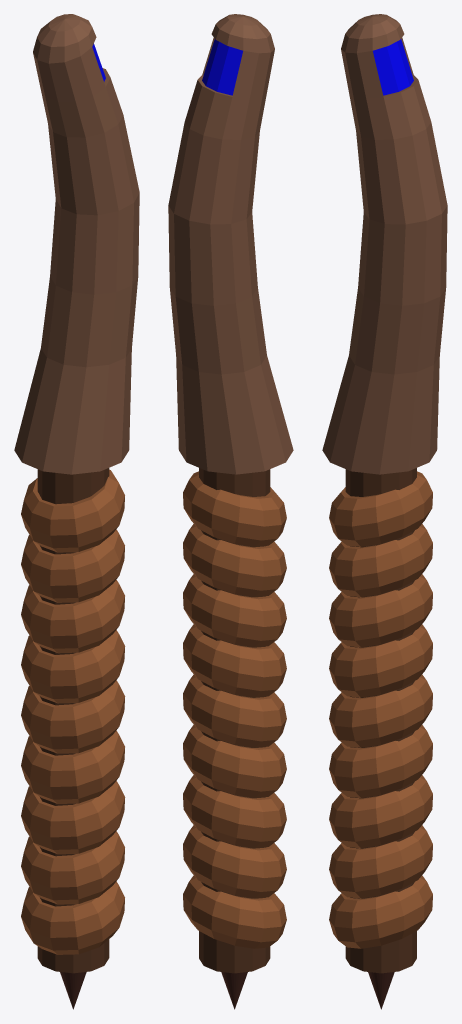
The model's file is Wand 442.glb.
The picture shows the model from 3 angles, left to right: view 1: azimuth 30°, elevation 25°; view 2: azimuth 210°, elevation 25°; view 3: azimuth 330°, elevation 25°; orthographic projection.
Visible parts, largest first — view 1: GeneratedWand; view 2: GeneratedWand; view 3: GeneratedWand.
Boxes of the visible parts, x1=… form: GeneratedWand: x1=14, y1=14, x2=139, y2=1009; GeneratedWand: x1=168, y1=14, x2=293, y2=1009; GeneratedWand: x1=322, y1=14, x2=447, y2=1009.
Bounding box in the file's own units: 0.0644 × 0.5447 × 0.0581.
